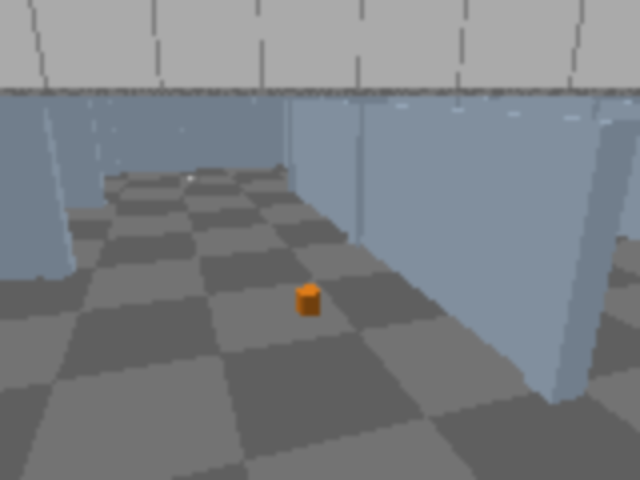puck: (297, 286, 319, 316)
